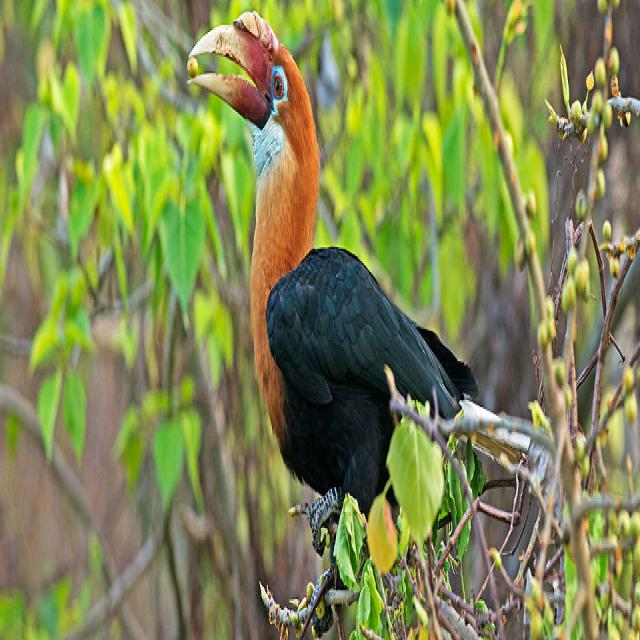Hornbill: (186, 3, 498, 549)
